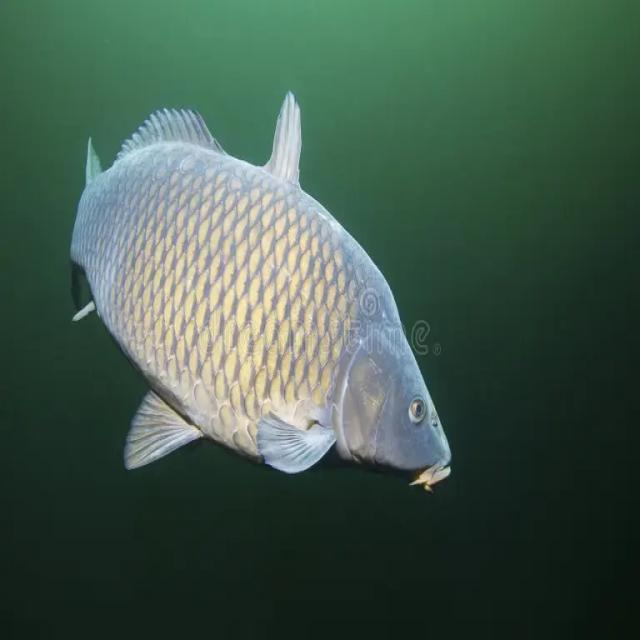Common carp: (72, 92, 454, 486)
